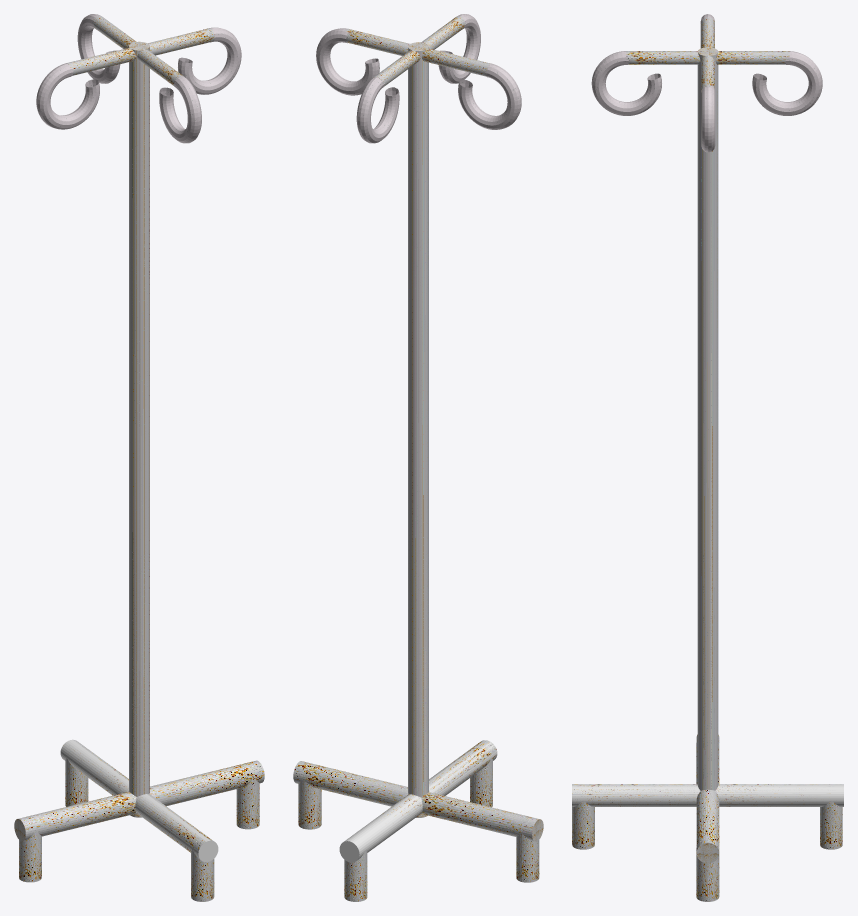
File: drip_nobottle.glb
3 renders of one model, left to right at view 1: azimuth 30°, elevation 25°; view 2: azimuth 150°, elevation 25°; view 3: azimuth 270°, elevation 25°, orthographic.
Parts seen in each view (by area): view 1: Цилиндр.003, Цилиндр.002; view 2: Цилиндр.003, Цилиндр.002; view 3: Цилиндр.003, Цилиндр.002.
Boxes of the visible parts, x1=… form: Цилиндр.003: x1=14, y1=14, x2=264, y2=901; Цилиндр.002: x1=60, y1=740, x2=218, y2=862; Цилиндр.003: x1=293, y1=14, x2=543, y2=901; Цилиндр.002: x1=339, y1=740, x2=497, y2=862; Цилиндр.003: x1=572, y1=14, x2=843, y2=901; Цилиндр.002: x1=572, y1=784, x2=843, y2=806.
Bounding box in the file's own units: 2.81 × 9.05 × 2.81.
Materials: 1 (1 with a texture image).
